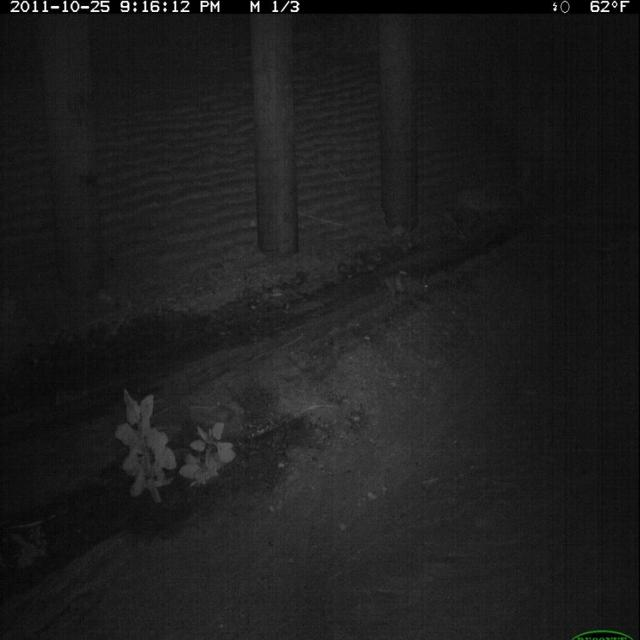cat: (372, 259, 435, 313)
